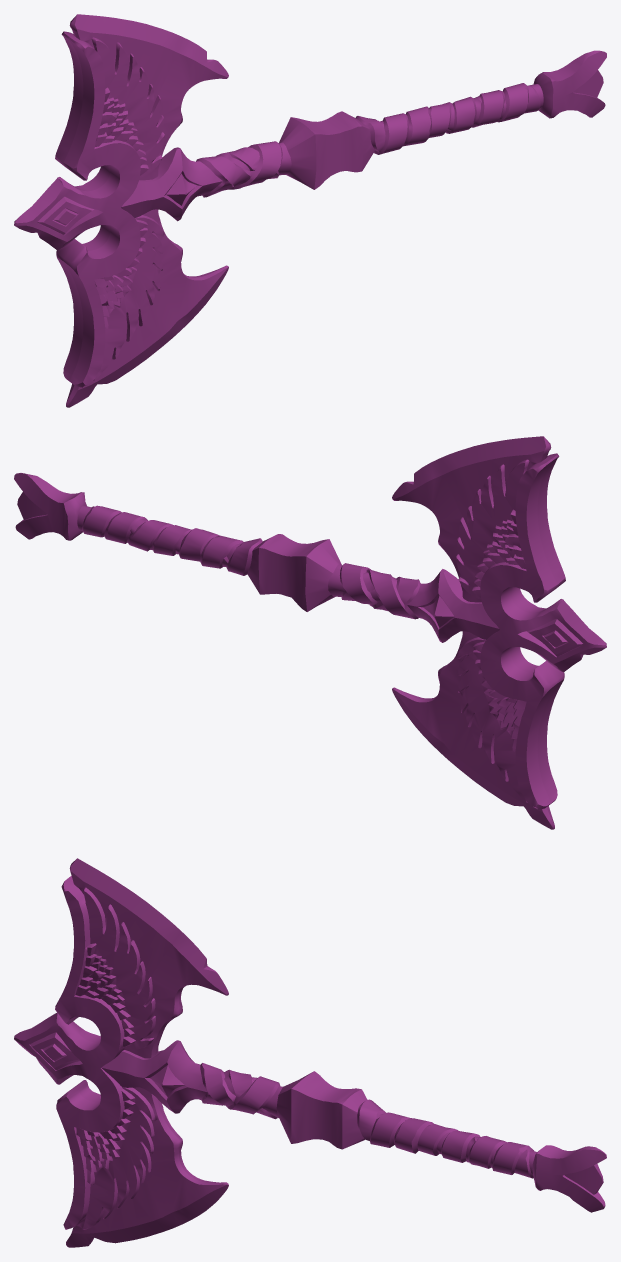
The model's file is SM_Rune_Two_Handed_Poleaxe_3.obj.
3 renders of one model, top to bottom at view 1: azimuth 30°, elevation 25°; view 2: azimuth 150°, elevation 25°; view 3: azimuth 330°, elevation 25°, orthographic.
Visible parts, largest first — view 1: SM_Rune_Two_Handed_Poleaxe_3; view 2: SM_Rune_Two_Handed_Poleaxe_3; view 3: SM_Rune_Two_Handed_Poleaxe_3.
Part boxes in pixels (x1,y1,x2,y2): SM_Rune_Two_Handed_Poleaxe_3: (14, 14, 606, 407); SM_Rune_Two_Handed_Poleaxe_3: (14, 436, 606, 829); SM_Rune_Two_Handed_Poleaxe_3: (14, 858, 606, 1247).
Size of the model in its own units: 858 by 541 by 63.09.
